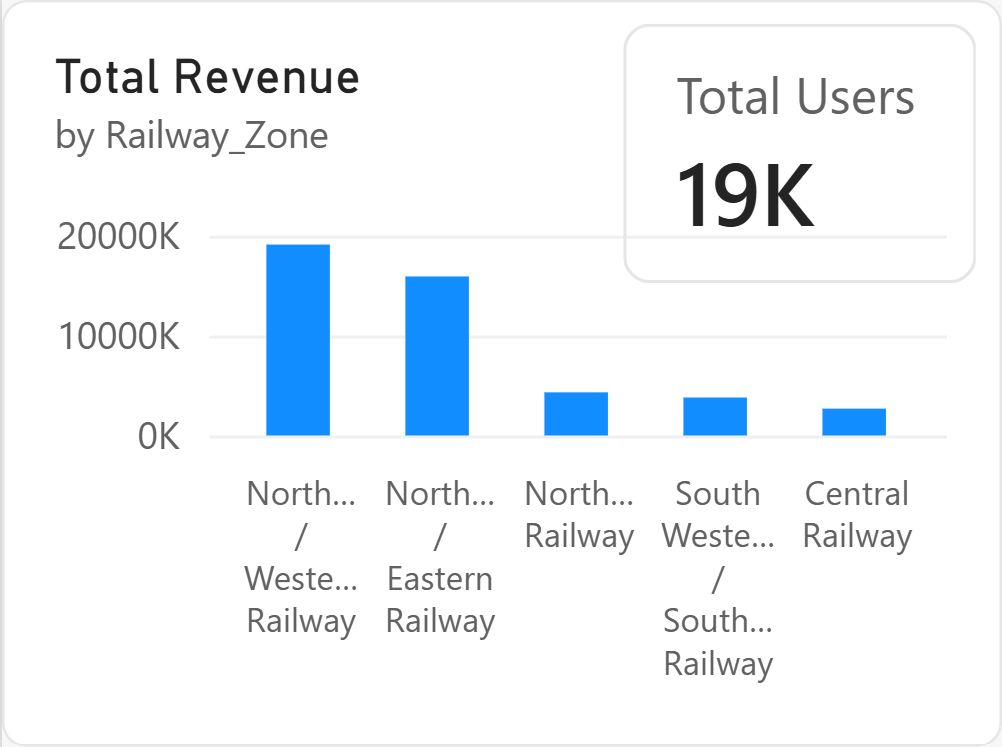

This screenshot's page, from the dashboard's own definition file:
{"tool":"powerbi","page":{"name":"Tooltip 2","canvas":[320,240],"ordinal":2},"visuals":[{"type":"columnChart","fields":{"Category":["IRCTC_DATA.Railway_Zone"],"Y":["All Measures.Total Revenue"]},"box":[0,0,319.8,239.6],"z":0},{"type":"cardVisual","fields":{"Data":["All Measures.Total Users"]},"box":[198.9,7.7,113.2,83.5],"z":1000}]}

Visuals, with their boxes in screenshot pixels (x1, y1, x2, y2), scaled from the page's 320x240 canvas onto the 1002x747 screenshot:
columnChart - IRCTC_DATA.Railway_Zone x All Measures.Total Revenue: box=[0, 0, 1001, 746]
cardVisual - All Measures.Total Users: box=[623, 24, 977, 284]
